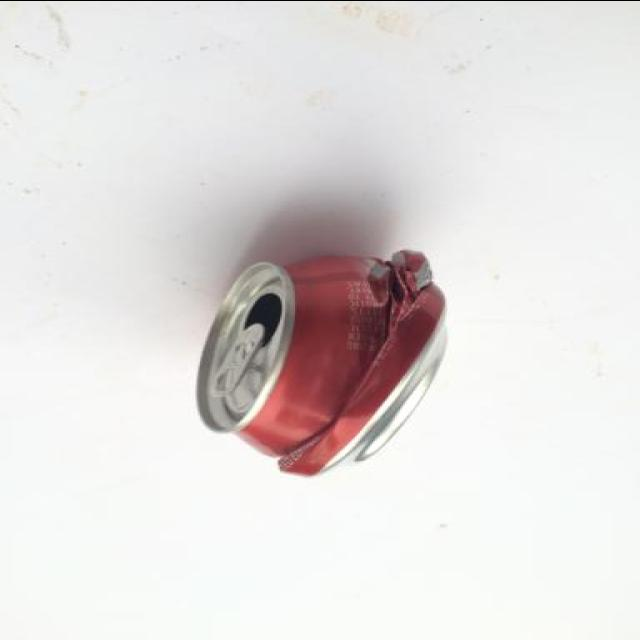Aluminum Can: (177, 202, 485, 488)
